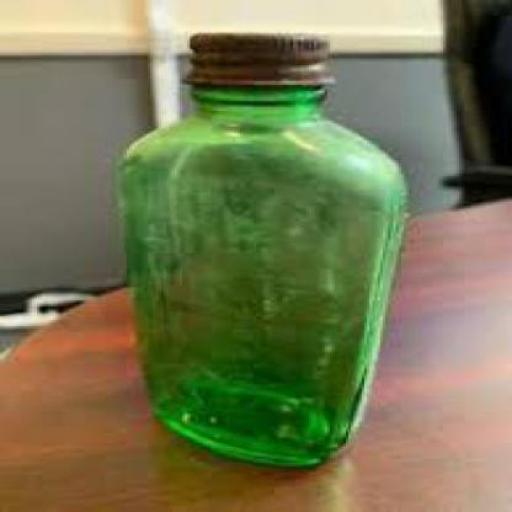glass: (113, 83, 406, 468)
metal: (179, 34, 333, 88)
